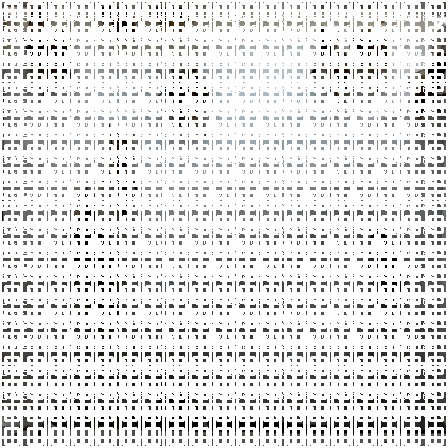bee: (139, 51, 226, 137), (351, 209, 410, 314), (333, 13, 400, 102), (89, 122, 148, 222), (300, 10, 358, 111), (12, 27, 92, 96), (84, 225, 133, 327), (52, 177, 99, 278), (404, 22, 448, 124), (144, 371, 212, 436), (90, 1, 146, 54)
